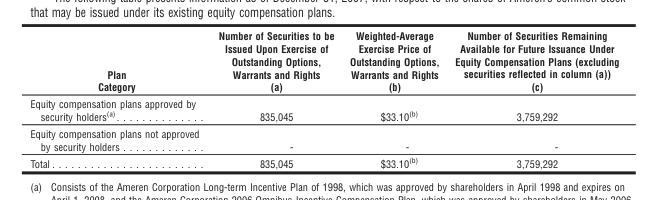table: (29, 28, 618, 169)
table column: (29, 28, 208, 169), (446, 28, 618, 169), (208, 28, 341, 169), (341, 28, 412, 169), (412, 28, 446, 169)
table column header: (29, 28, 618, 124)
table row: (29, 28, 618, 100), (29, 124, 618, 153), (29, 100, 618, 124), (29, 153, 618, 169)
table spanning cell: (29, 28, 208, 124), (446, 28, 618, 124), (208, 28, 341, 124), (341, 28, 446, 100)
